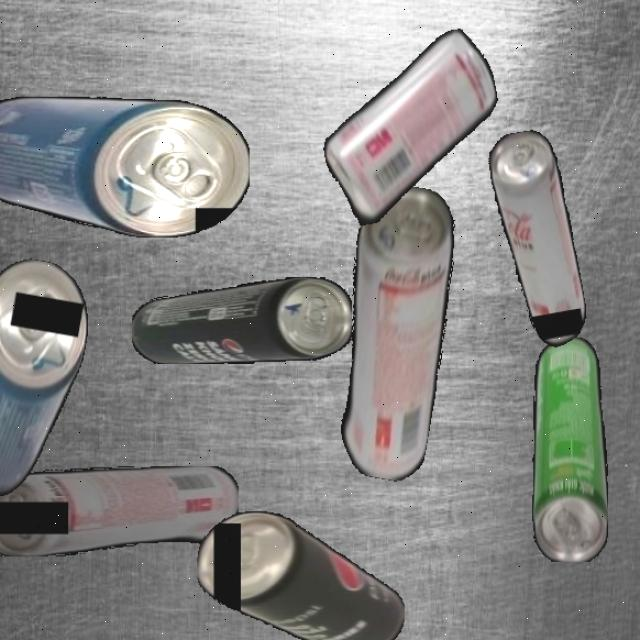debris: (318, 179, 470, 485), (308, 25, 515, 229), (0, 96, 250, 238), (197, 510, 405, 640), (0, 252, 98, 505), (485, 127, 592, 355), (0, 465, 239, 557), (131, 277, 352, 364), (531, 335, 608, 562)
